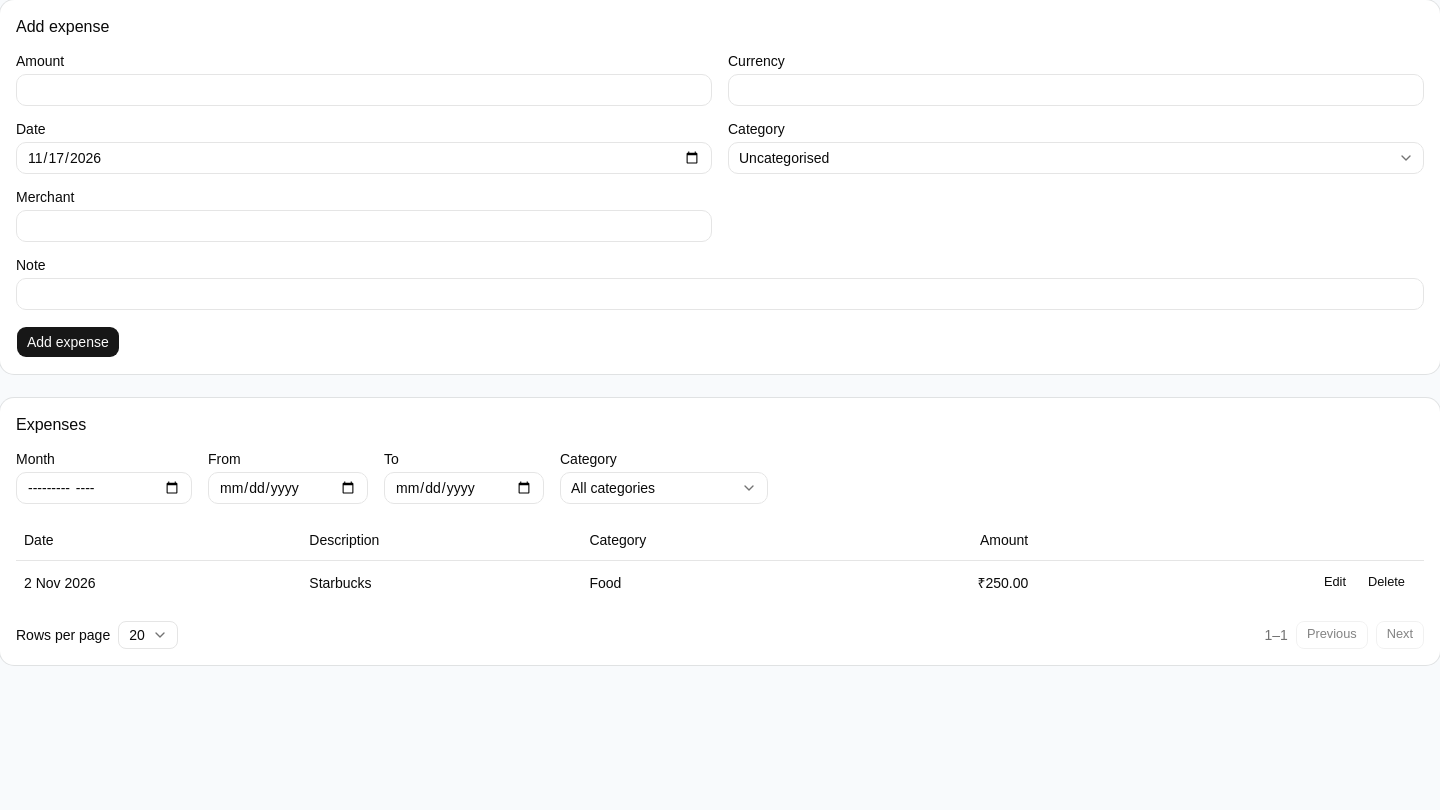
Keep it closes the dialog and keeps the expense
Click the button with aria-label "Delete Starbucks".
click(1386, 582)  # box [1357,568,1416,596]
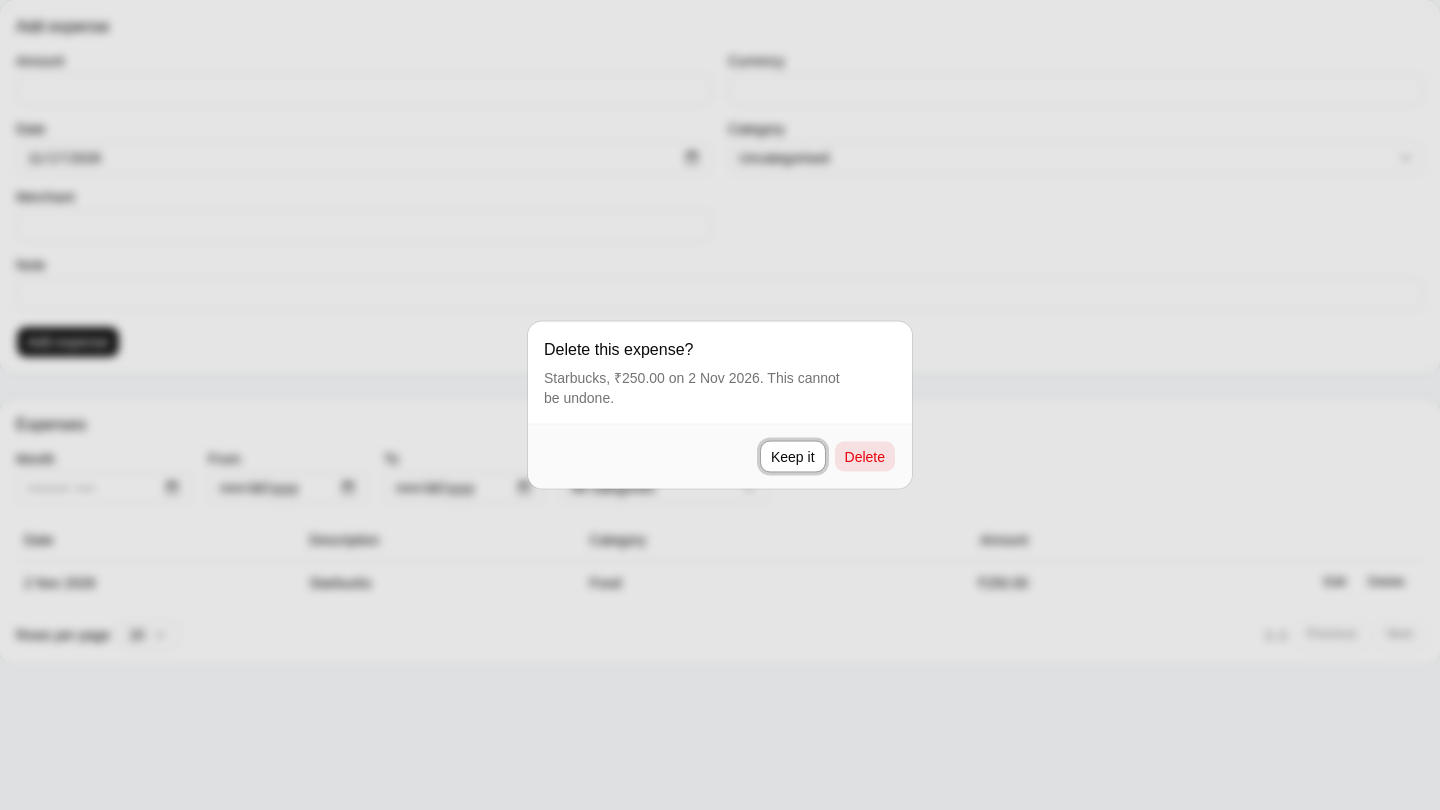
Click the button "Keep it".
click(793, 456)  # box [760,440,826,472]
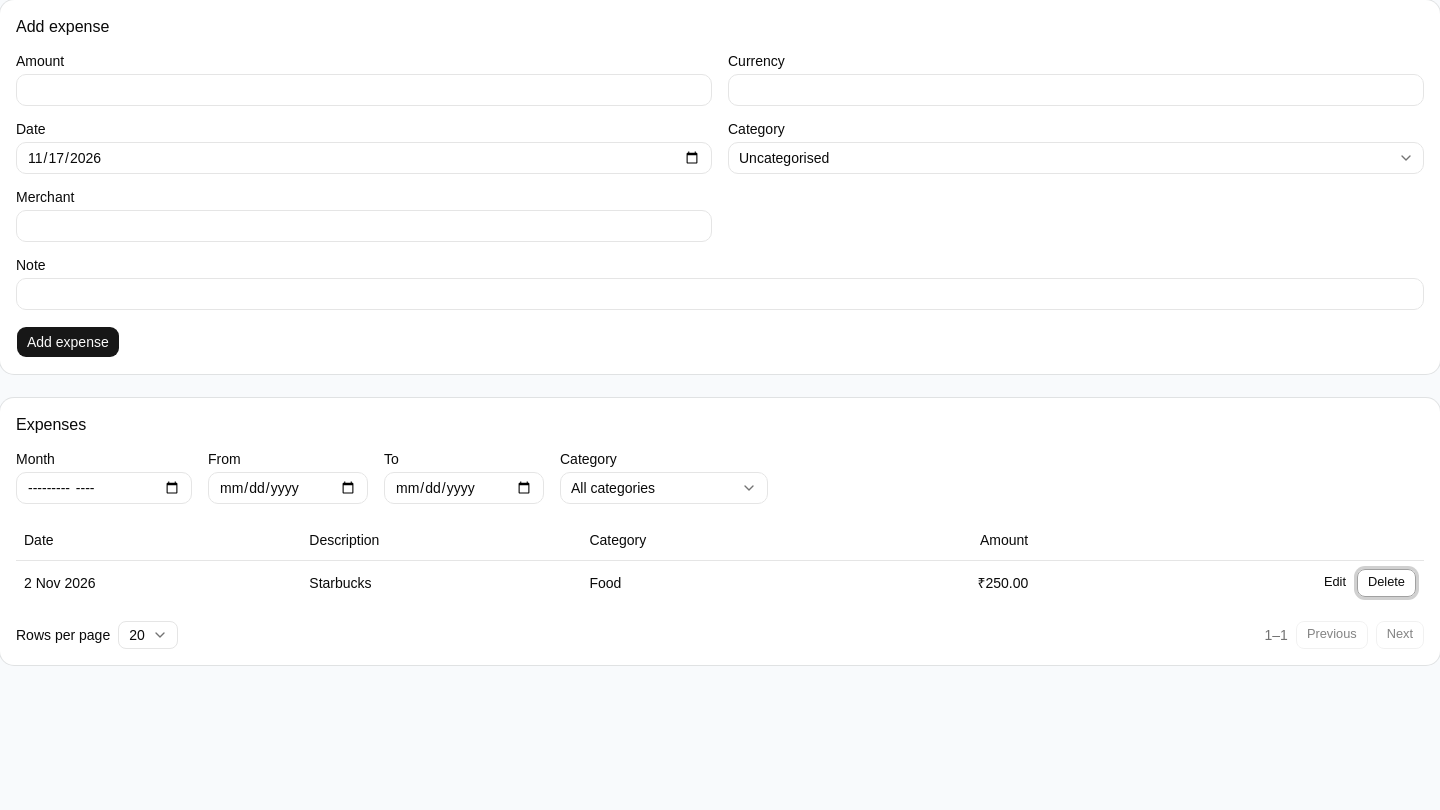
Expected: the text "Starbucks" is shown, [301,560,582,604]
Expected: the dialog is gone
